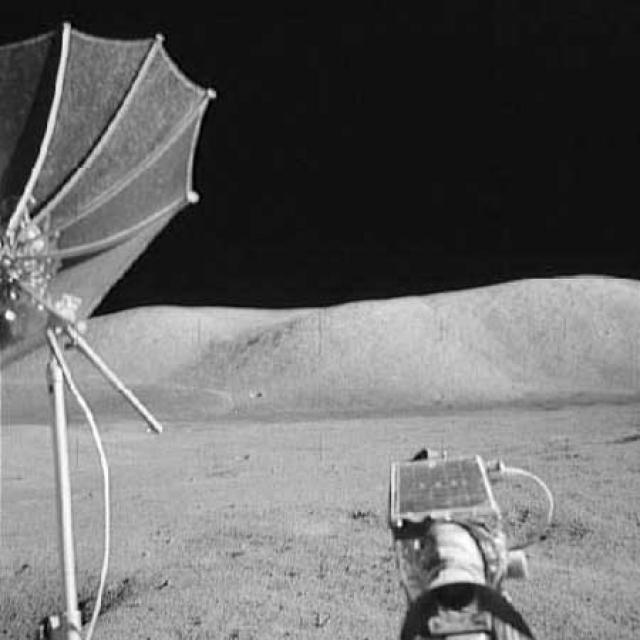artifact: (0, 19, 226, 638), (366, 436, 558, 639)
crater: (3, 544, 141, 639)
